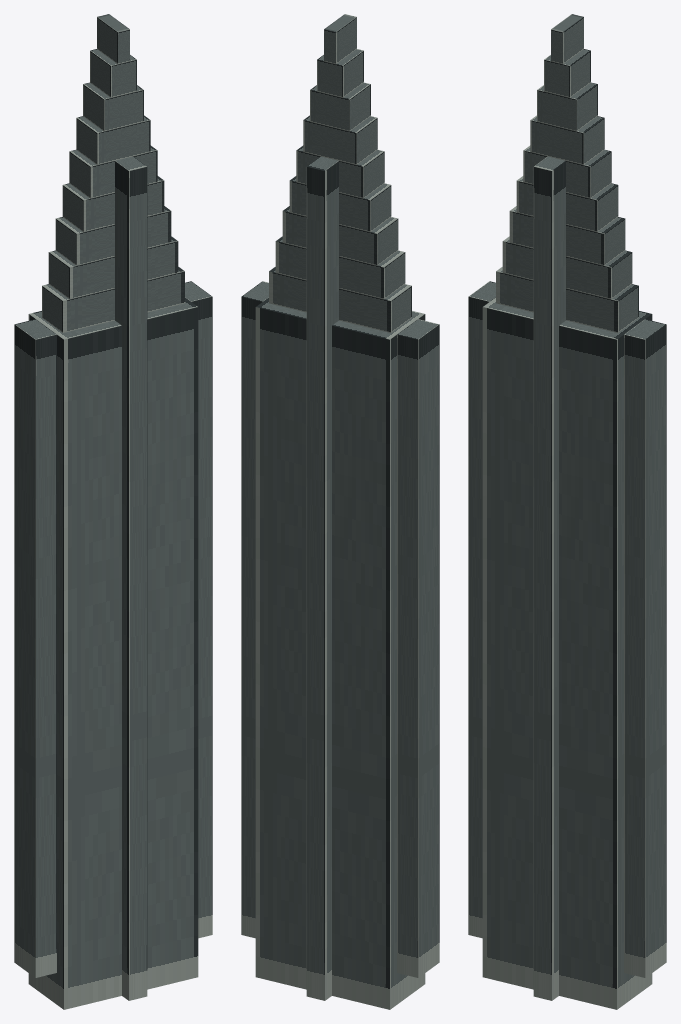
The model's file is workpiece_xuantie_flying_sword_shaped.obj.
The picture shows the model from 3 angles, left to right: view 1: azimuth 30°, elevation 25°; view 2: azimuth 150°, elevation 25°; view 3: azimuth 330°, elevation 25°; orthographic projection.
Visible parts, largest first — view 1: geometry; view 2: geometry; view 3: geometry.
Boxes of the visible parts, left/top/right/bottom form: geometry: left=14, top=14, right=212, bottom=1009; geometry: left=241, top=14, right=439, bottom=1009; geometry: left=468, top=14, right=666, bottom=1009.
Bounding box in the file's own units: 0.3625 × 1.88 × 0.175.
